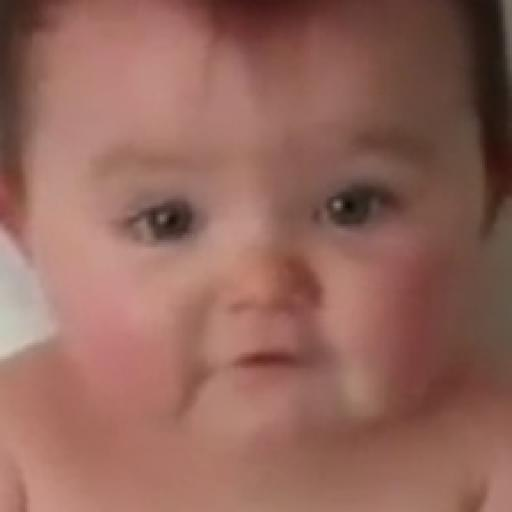Autism: (60, 26, 470, 450)
